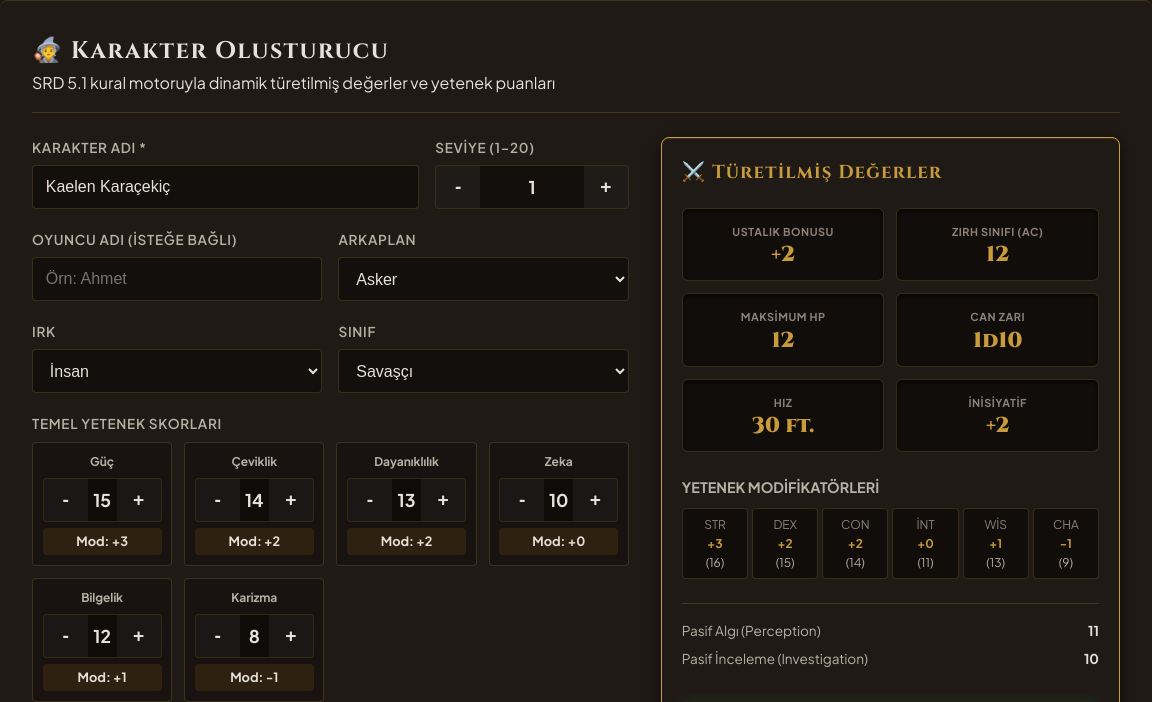
Test: Karakter Oluşturucu (CharacterCreator) Bileşen Testleri › Seviye artırıldığında (Seviye 5) Ustalık Bonusu +3 olmalı
Note: Seviye 1'den 5'e yükselt (4 kez tıkla)
Click the button named "Seviye Artır": click(606, 187) [584,165,628,209]
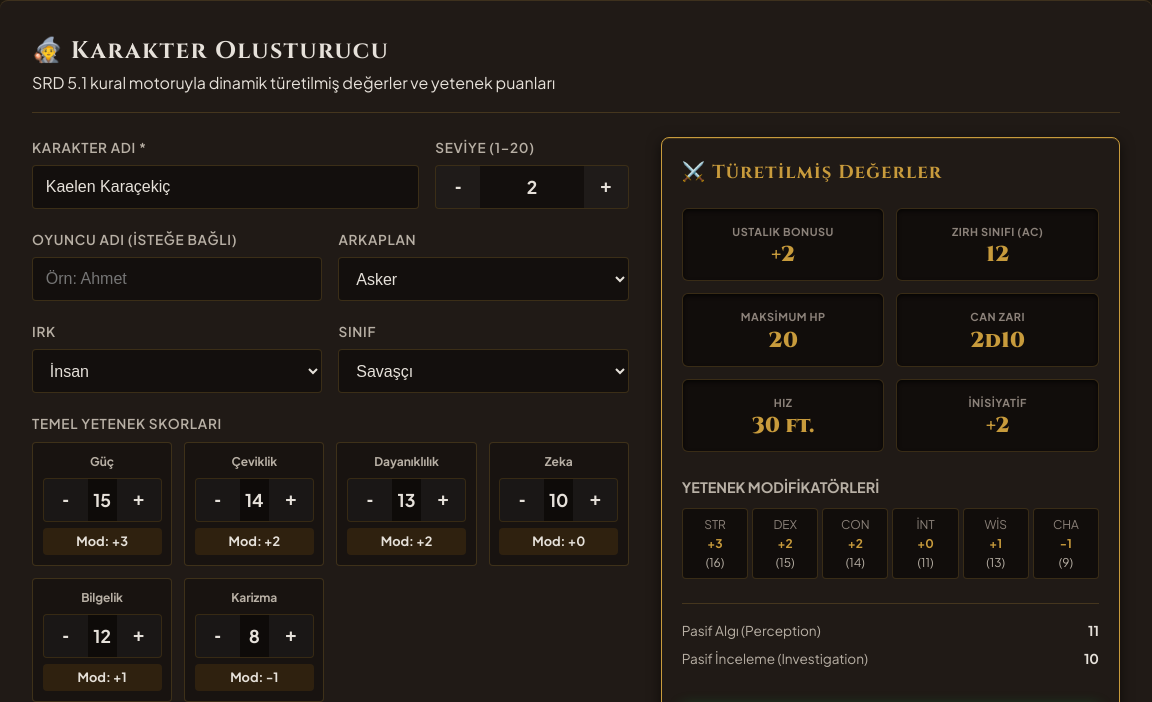
Click the button named "Seviye Artır": click(606, 187) [584,165,628,209]
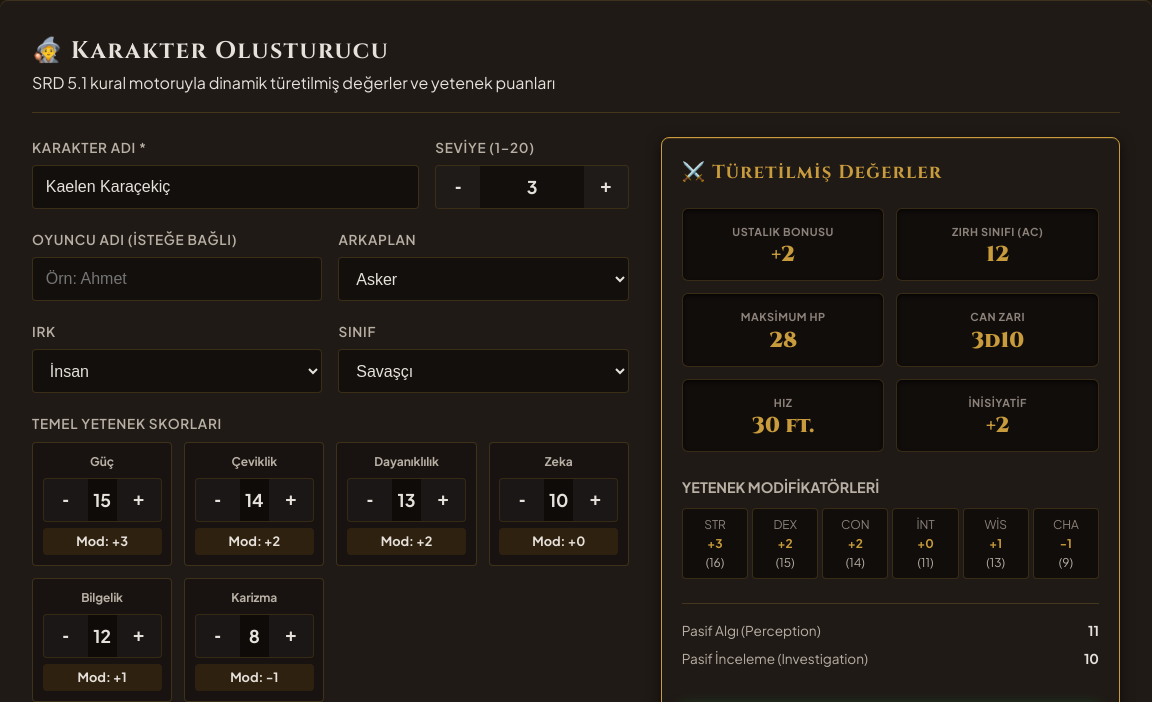
Click the button named "Seviye Artır": click(606, 187) [584,165,628,209]
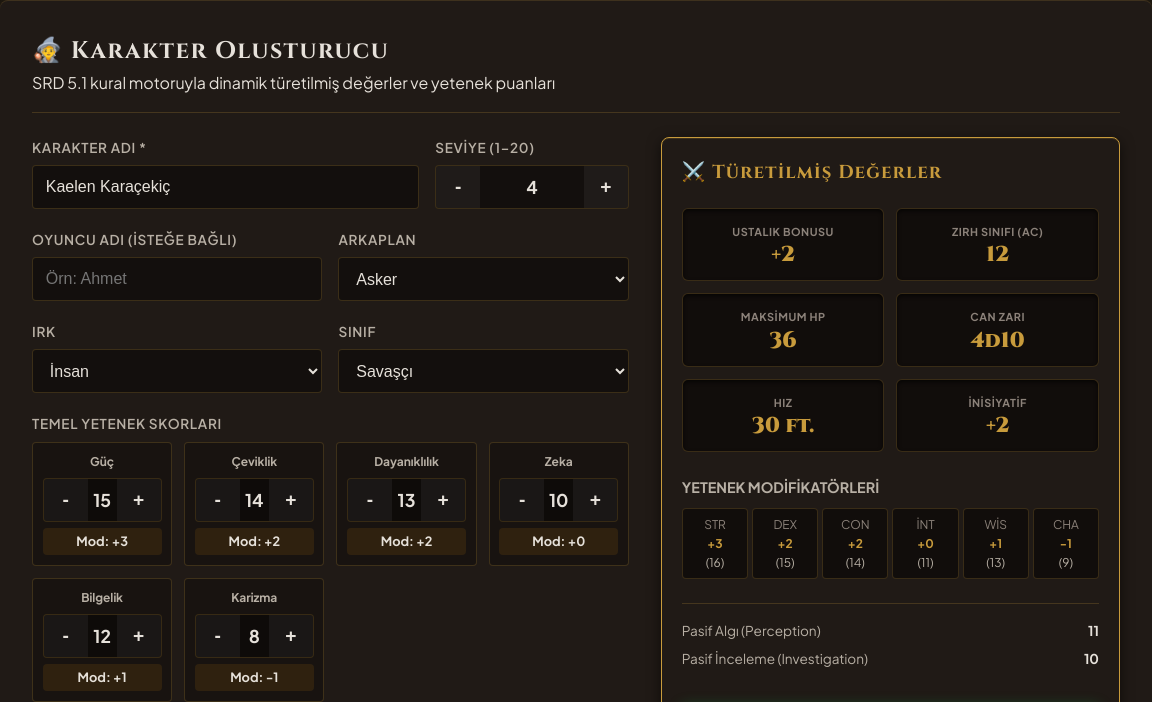
Click the button named "Seviye Artır": click(606, 187) [584,165,628,209]
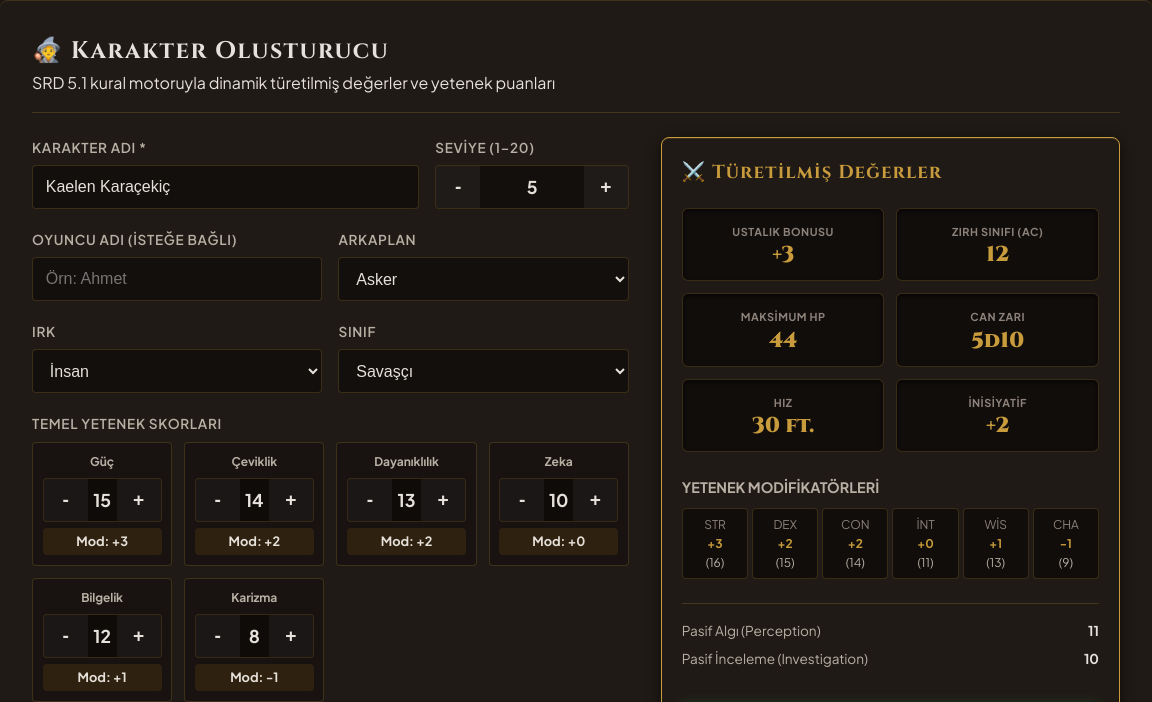
Result: the text with id "display-level" reads "5" at [527,176,537,198]
Result: the text "+3" below "Ustalık Bonusu" is shown at [772,243,794,267]
